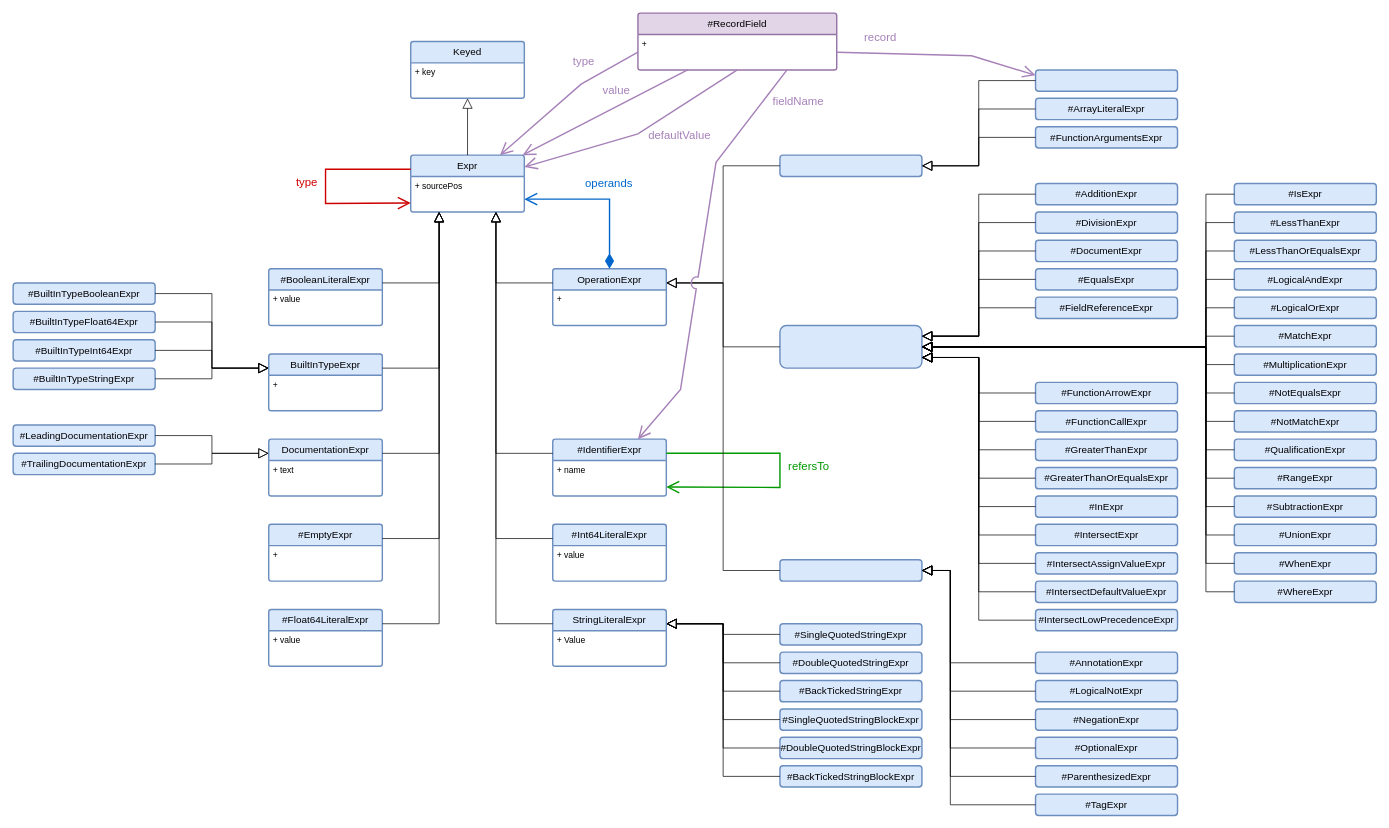
Some shapes in this 1389 by 828 pixel diagram are drawn without their labels. The centre of each missing label's shape, as x and y in pixels:
"#RecordExpr" belongs at point 1106,80.
"BinaryOperationExpr" belongs at point 850,346.
"CompositeExpr" belongs at point 850,165.
"UnaryOperationExpr" belongs at point 850,570.
